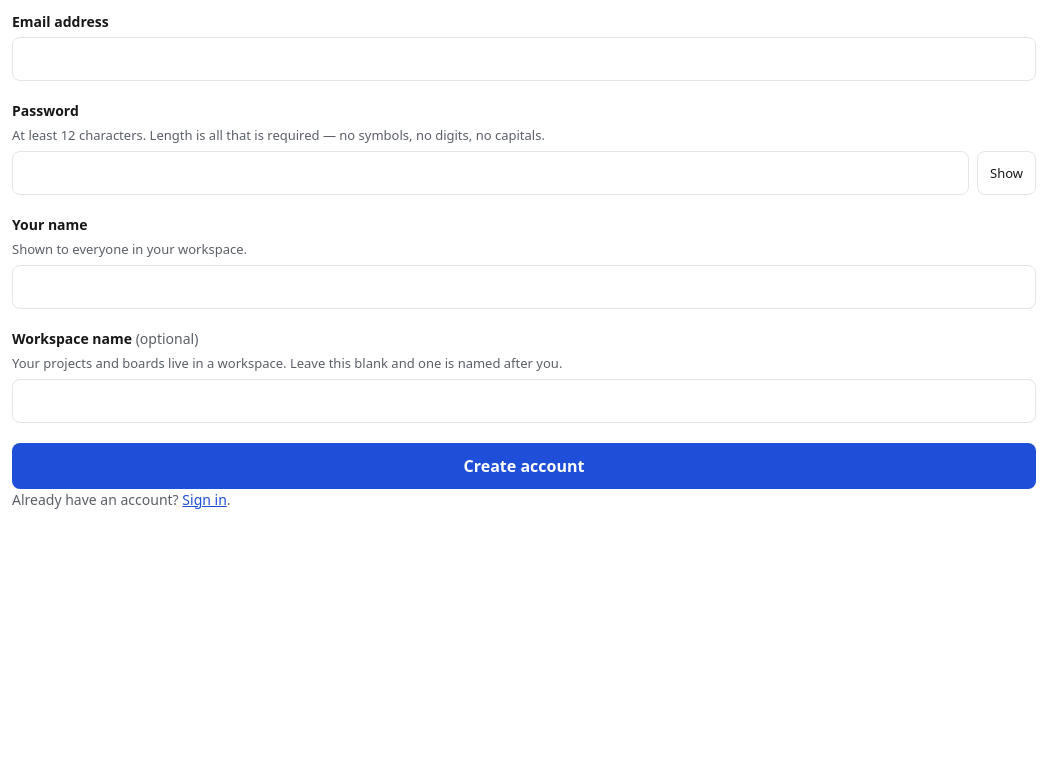
Scenario: validation › does not reach the network with a form it knows the API will reject
The width and height of the screenshot is (1048, 780).
Type "andy@example.com" into the field labelled "Email address". click: (524, 59)
box: [12,37,1036,81]
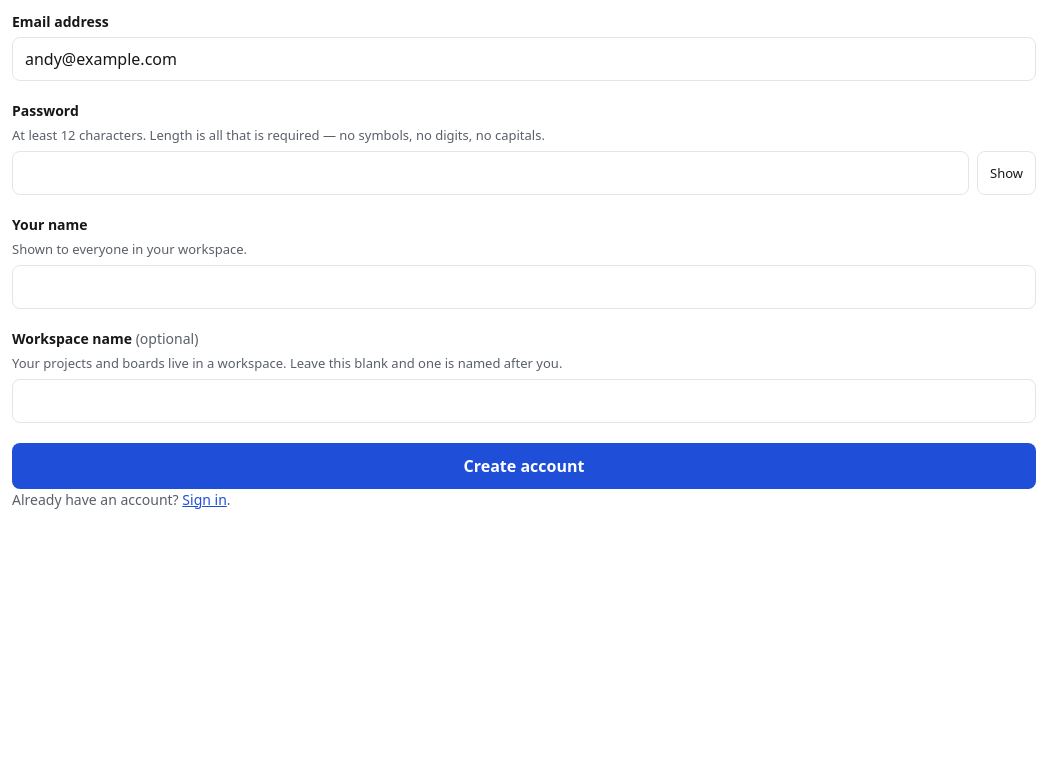
Type "correct horse battery" into the password field labelled "Password". click: (490, 173)
box: [12,151,969,195]
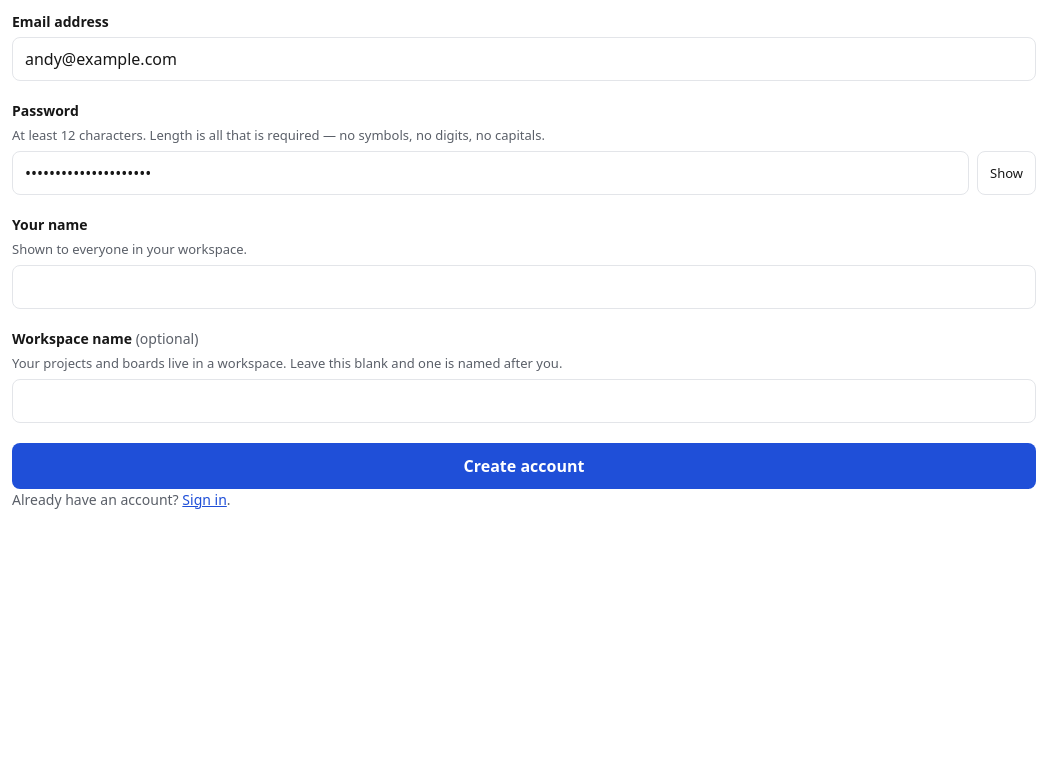
Type "Andy Vorndran" into the field labelled "Your name". click: (524, 287)
box: [12,265,1036,309]
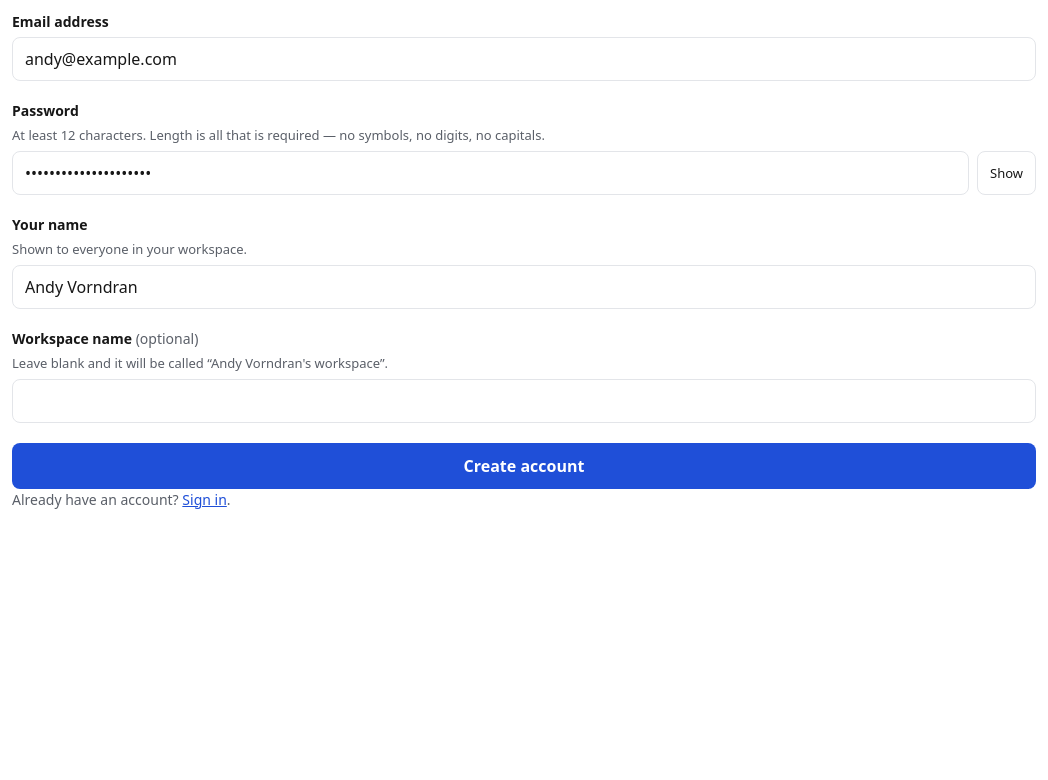
Type "tooshort" into the password field labelled "Password". click: (490, 173)
box: [12,151,969,195]
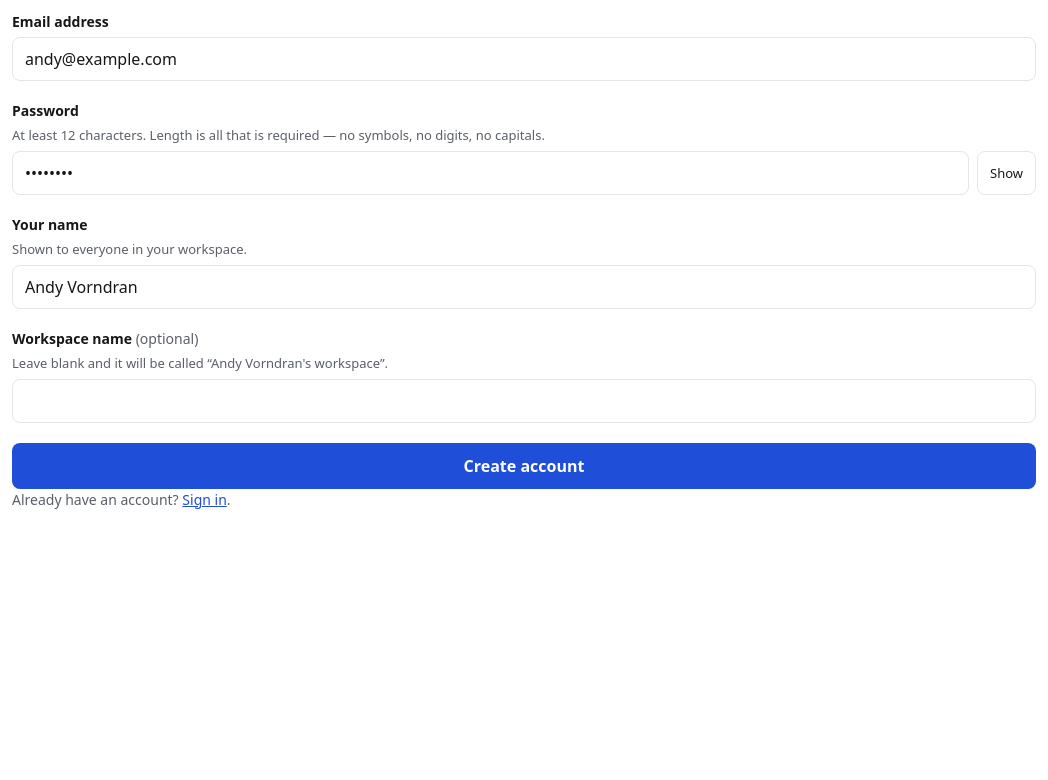
Submit the form named "Create account", box [12,12,1036,488]
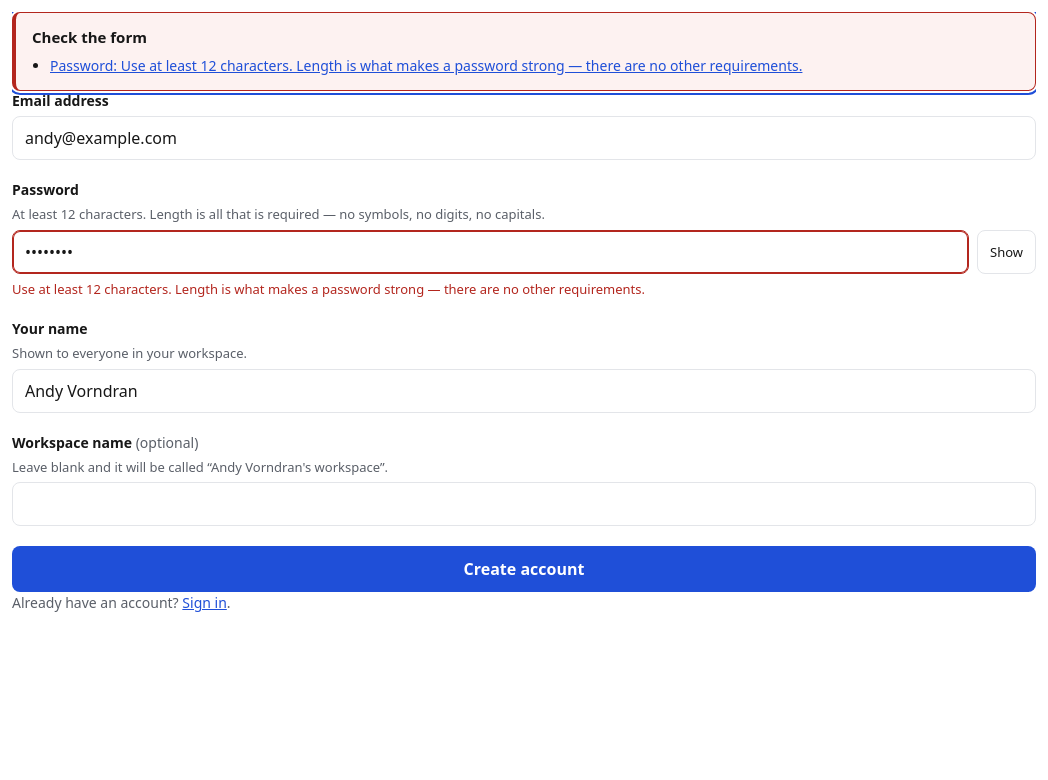
Expected: the message is shown, [12,12,1036,91]
